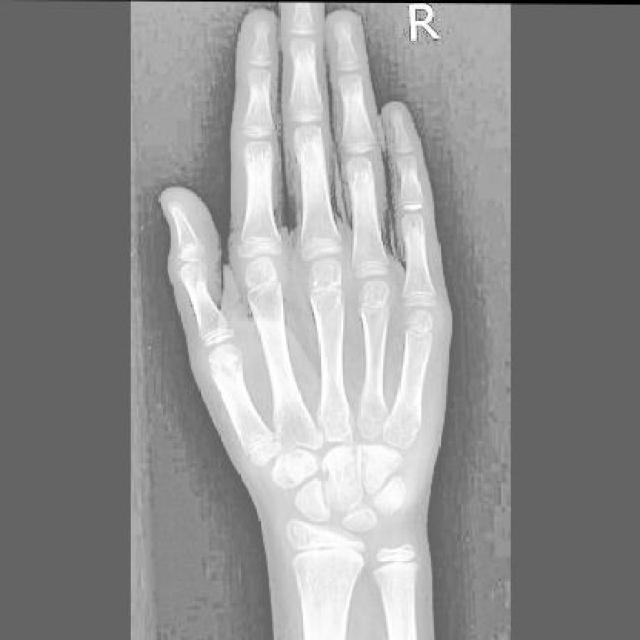Fracture: (319, 450, 364, 484)
